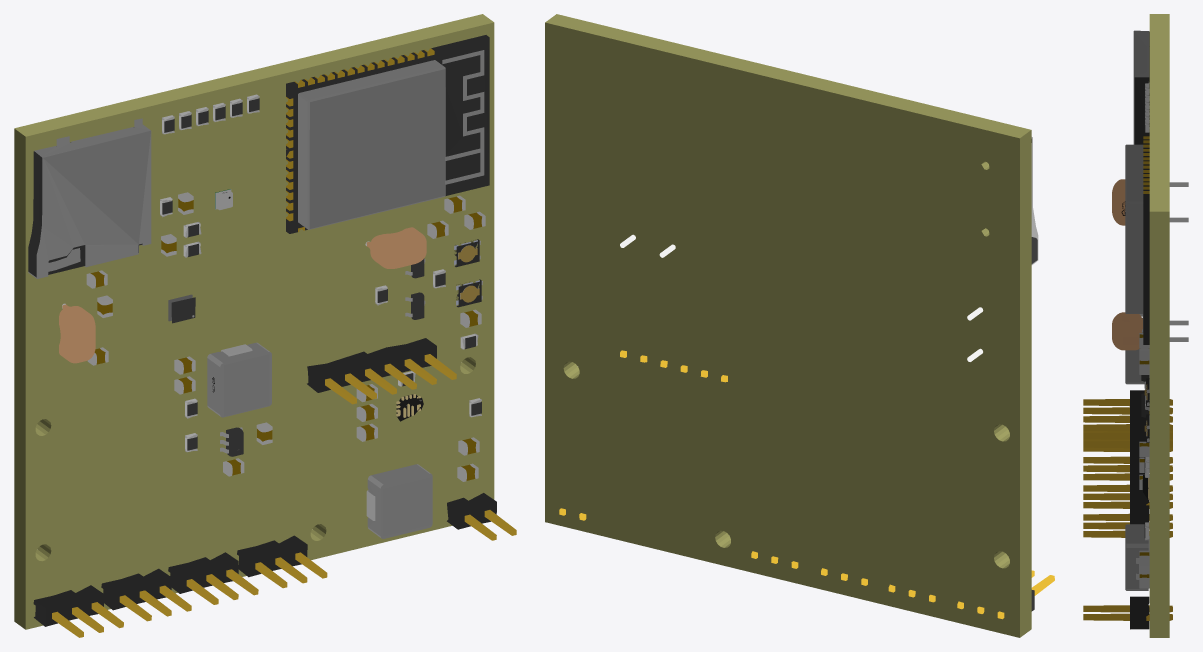
File: PCB.obj
The picture shows the model from 3 angles, left to right: view 1: azimuth 30°, elevation 25°; view 2: azimuth 150°, elevation 25°; view 3: azimuth 270°, elevation 25°; orthographic projection. The views are drawn at different scales.
Bounding box in the file's own units: 235 × 236 × 53.05.
